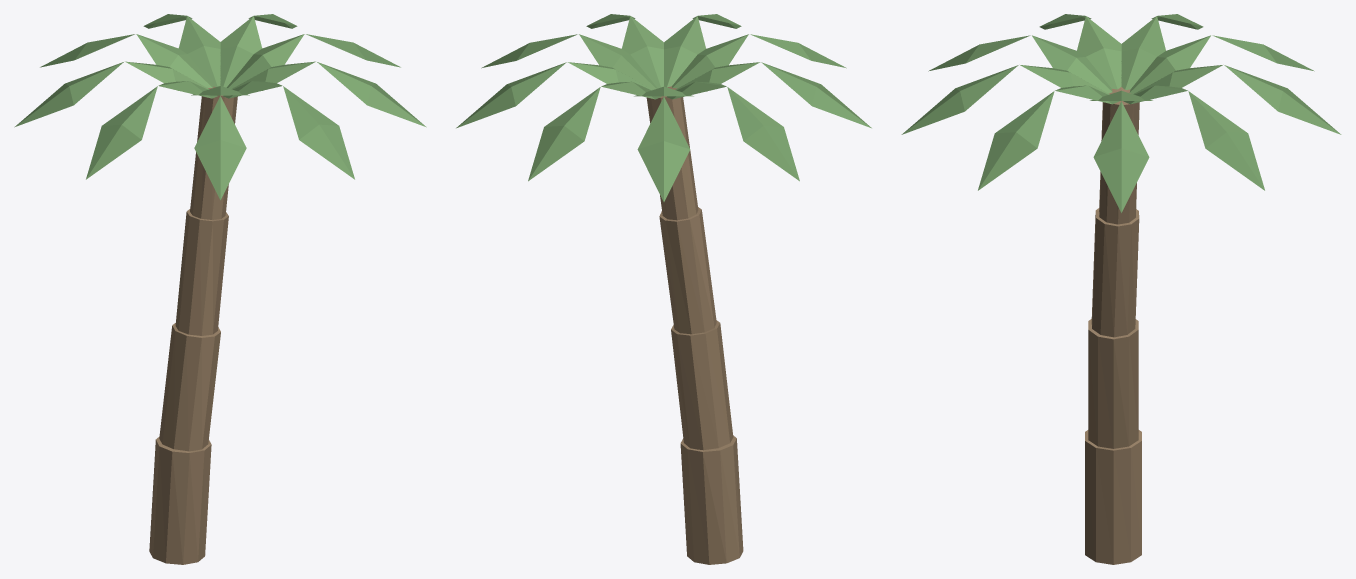
The model's file is palm_tree.glb.
The picture shows the model from 3 angles, left to right: view 1: azimuth 30°, elevation 25°; view 2: azimuth 150°, elevation 25°; view 3: azimuth 270°, elevation 25°; orthographic projection. The views are drawn at different scales.
Visible parts, largest first — view 1: trunk_0, trunk_1, trunk_2, frond_outer_6, frond_outer_5, frond_outer_7, trunk_3, frond_inner_1, frond_inner_2, frond_outer_4, frond_outer_8, frond_inner_0 (+5 smaller); view 2: trunk_0, trunk_1, trunk_2, frond_outer_3, frond_outer_2, frond_outer_4, trunk_3, frond_inner_8, frond_inner_7, frond_outer_1, frond_outer_5, frond_inner_0 (+5 smaller); view 3: trunk_0, trunk_1, trunk_2, frond_outer_0, frond_outer_1, frond_outer_8, frond_inner_4, frond_inner_5, trunk_3, frond_outer_2, frond_outer_7, frond_inner_3 (+5 smaller).
Boxes of the visible parts, bbox=[...] form: trunk_0: bbox=[149, 436, 211, 564]; trunk_1: bbox=[159, 323, 220, 451]; trunk_2: bbox=[175, 209, 228, 335]; frond_outer_6: bbox=[194, 96, 246, 200]; frond_outer_5: bbox=[86, 86, 157, 179]; frond_outer_7: bbox=[283, 86, 354, 179]; trunk_3: bbox=[190, 86, 237, 219]; frond_inner_1: bbox=[220, 16, 262, 87]; frond_inner_2: bbox=[178, 16, 220, 86]; frond_outer_4: bbox=[14, 62, 123, 127]; frond_outer_8: bbox=[317, 62, 426, 127]; frond_inner_0: bbox=[226, 34, 304, 88]; trunk_0: bbox=[680, 435, 743, 564]; trunk_1: bbox=[671, 320, 733, 450]; trunk_2: bbox=[659, 207, 716, 334]; frond_outer_3: bbox=[637, 97, 690, 201]; frond_outer_2: bbox=[528, 87, 600, 181]; frond_outer_4: bbox=[727, 87, 799, 181]; trunk_3: bbox=[646, 86, 698, 220]; frond_inner_8: bbox=[621, 16, 663, 88]; frond_inner_7: bbox=[664, 16, 706, 87]; frond_outer_1: bbox=[456, 62, 566, 128]; frond_outer_5: bbox=[761, 62, 871, 128]; frond_inner_0: bbox=[579, 34, 657, 89]; trunk_0: bbox=[1085, 430, 1141, 564]; trunk_1: bbox=[1088, 319, 1138, 448]; trunk_2: bbox=[1091, 208, 1139, 337]; frond_outer_0: bbox=[1093, 101, 1149, 212]; frond_outer_1: bbox=[1188, 91, 1264, 190]; frond_outer_8: bbox=[978, 91, 1054, 190]; frond_inner_4: bbox=[1121, 16, 1165, 89]; frond_inner_5: bbox=[1077, 16, 1121, 89]; trunk_3: bbox=[1099, 87, 1139, 224]; frond_outer_2: bbox=[1224, 65, 1341, 134]; frond_outer_7: bbox=[901, 65, 1018, 134]; frond_inner_3: bbox=[1129, 35, 1210, 94].
Size of the model in its own units: 2.17 by 2.87 by 2.21.
